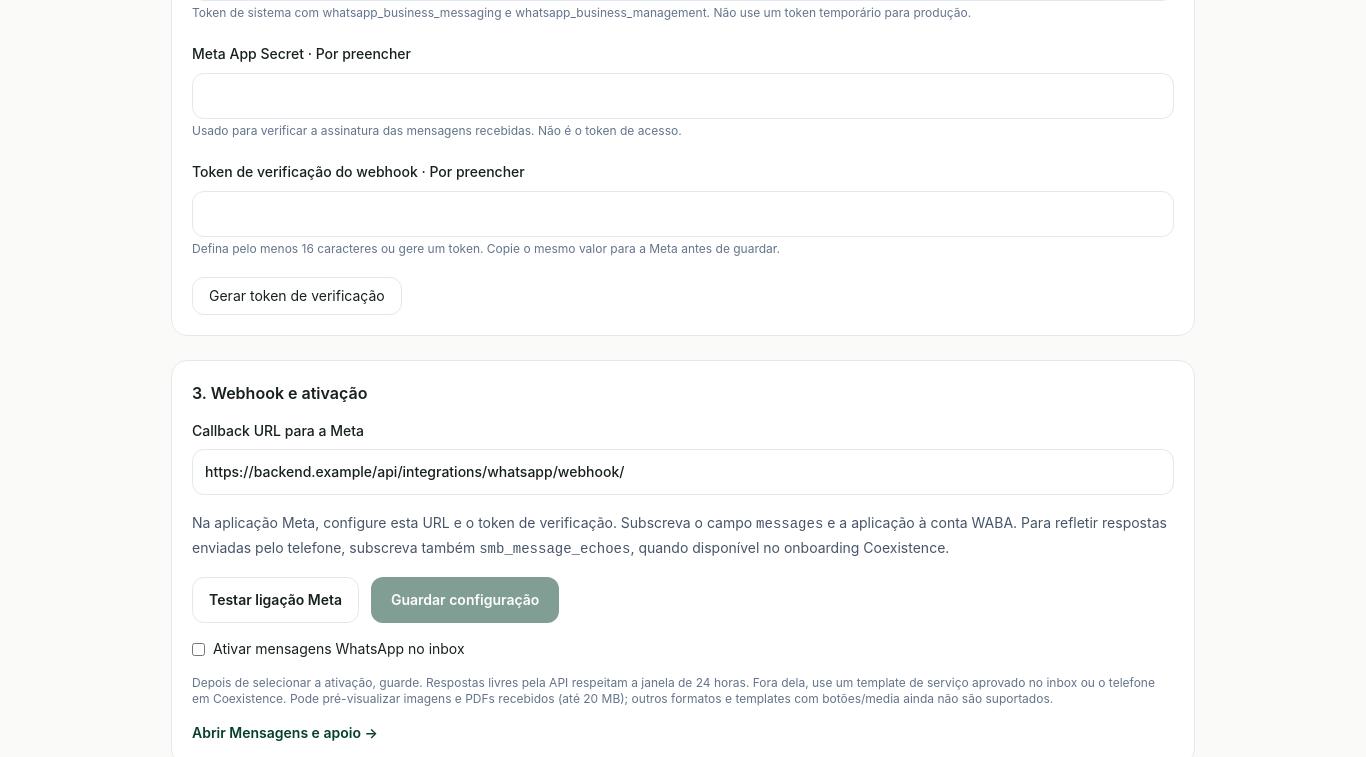
WhatsAppSettings › requires saving activation even after a successful connection and verification
(page scrolled)
Click the checkbox labelled "Ativar mensagens WhatsApp no inbox": (198, 649) top-left (192, 642), bottom-right (205, 656)
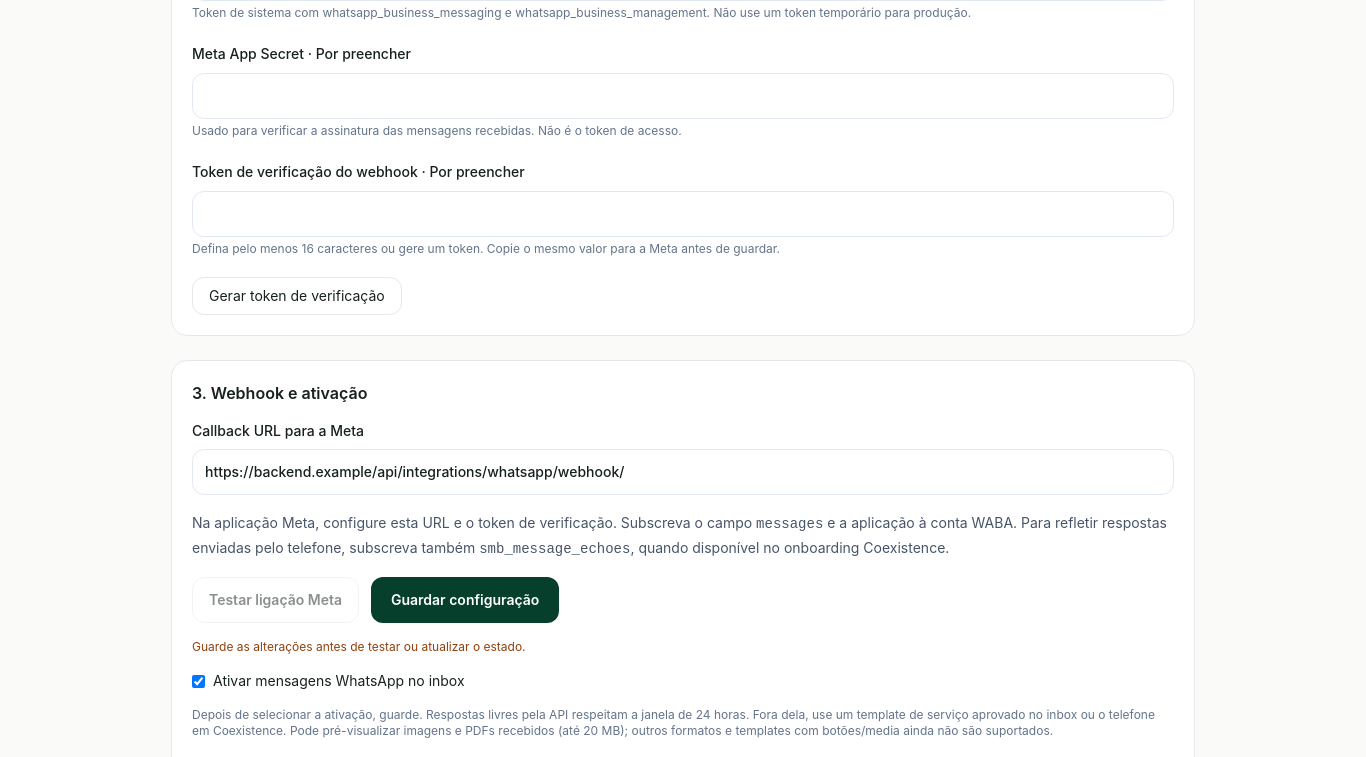
Expected: the button "Guardar configuração" is enabled, top-left (371, 577), bottom-right (559, 623)
Expected: the button "Testar ligação Meta" is disabled, top-left (192, 577), bottom-right (359, 623)
